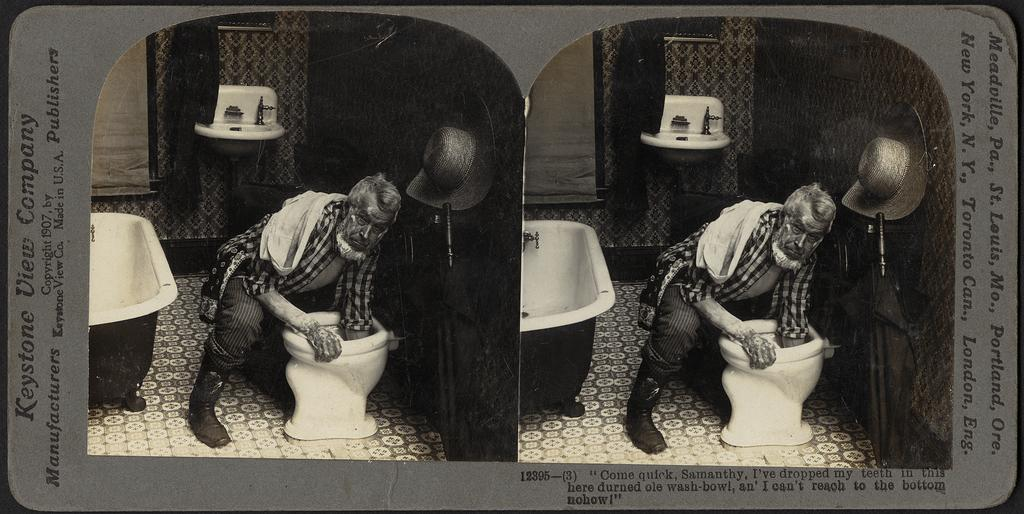Hat: (404, 90, 500, 216), (836, 105, 932, 222)
